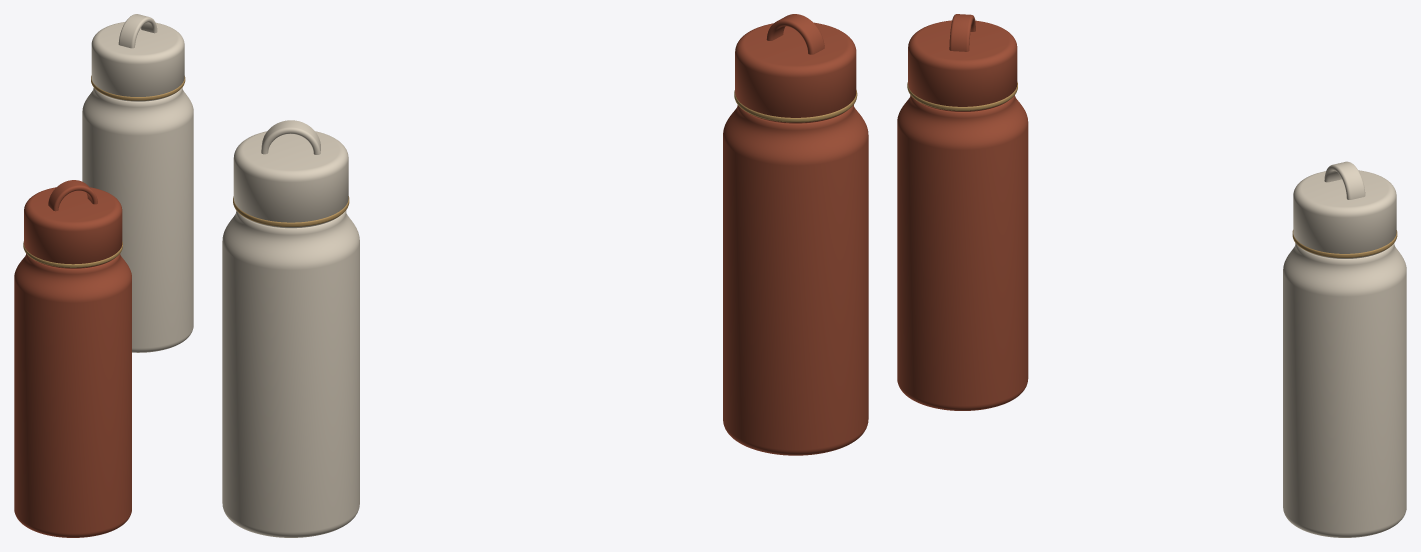
The picture shows the model from 3 angles, left to right: view 1: azimuth 30°, elevation 25°; view 2: azimuth 150°, elevation 25°; view 3: azimuth 270°, elevation 25°; orthographic projection. The views are drawn at different scales.
Visible parts, largest first — view 1: terra_body, sand_body, terra_cap, sand_cap, sand_strap, terra_strap, terra_band, sand_band; view 2: terra_body, sand_body, terra_cap, sand_cap, terra_strap, sand_strap; view 3: terra_body, sand_body, terra_cap, sand_cap, sand_strap, terra_strap.
Part boxes in pixels (x1,y1,x2,y2): terra_body: (14,253,131,537); sand_body: (82,87,193,352); terra_cap: (24,187,122,268); sand_cap: (91,22,184,101); sand_strap: (118,14,157,48); terra_strap: (48,180,97,211); terra_band: (23,241,122,267); sand_band: (91,75,185,100); terra_body: (723,105,868,455); sand_body: (222,210,359,537); terra_cap: (735,22,856,123); sand_cap: (233,131,348,228); terra_strap: (766,14,824,54); sand_strap: (261,120,320,154); terra_body: (897,95,1028,410); sand_body: (1283,243,1406,537); terra_cap: (908,20,1017,111); sand_cap: (1293,170,1396,258); sand_strap: (1324,161,1365,199); terra_strap: (949,14,975,51).
Bounding box in the file's own units: 2.37 × 2.24 × 2.8.
